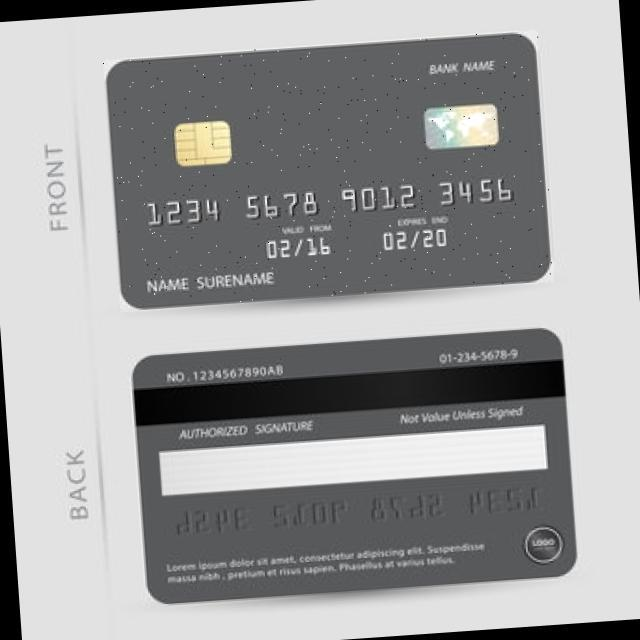payment_card: (101, 30, 556, 312), (130, 327, 577, 604)
